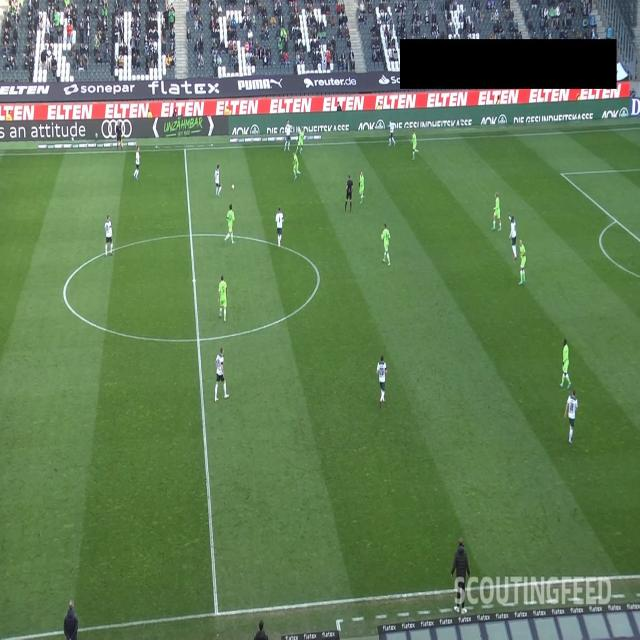ball: (231, 183, 235, 191)
